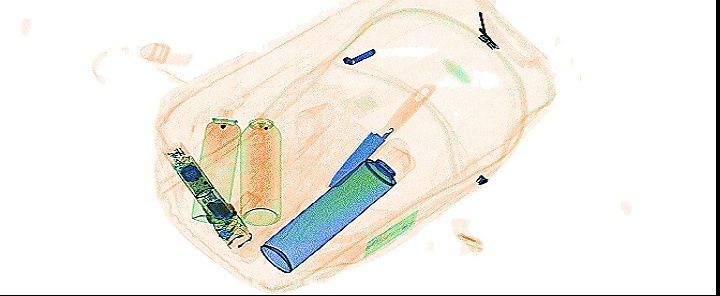knife: (326, 81, 436, 189)
lighter: (214, 189, 262, 240)
pressure: (258, 133, 414, 274), (188, 101, 240, 225), (236, 112, 281, 227)
